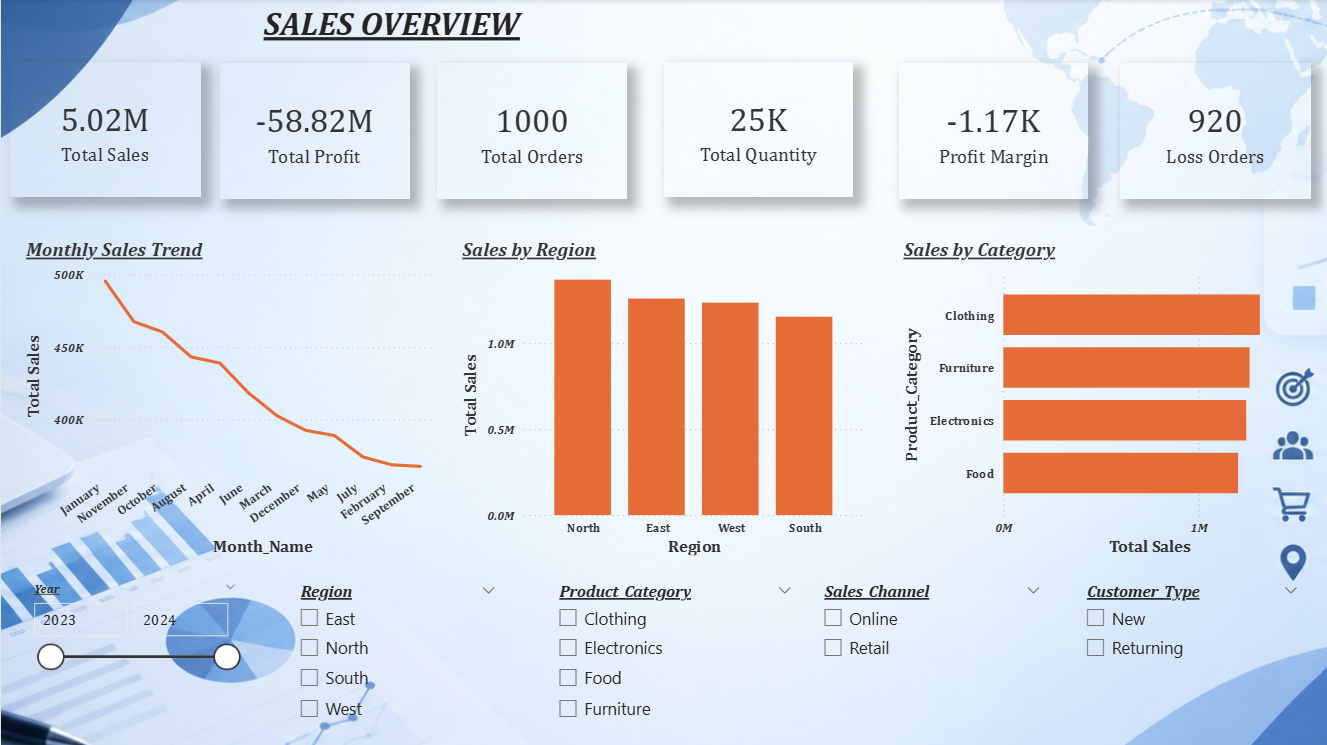

This screenshot's page, from the dashboard's own definition file:
{"tool":"powerbi","page":{"name":"Page 1","canvas":[1280,720],"ordinal":1},"visuals":[{"type":"textbox","box":[248.5,0,270.2,60.3],"z":0},{"type":"card","fields":{"Values":["cleaned_sales_data.Total Sales"]},"box":[8.4,60.3,184.6,131.5],"z":1000},{"type":"card","fields":{"Values":["cleaned_sales_data.Total Profit"]},"box":[211.1,61.5,183.4,131.5],"z":2000},{"type":"card","fields":{"Values":["cleaned_sales_data.Total Quantity"]},"box":[639.4,60.3,183.4,131.5],"z":3000},{"type":"card","fields":{"Values":["cleaned_sales_data.Total Orders"]},"box":[421,61.5,183.4,131.5],"z":4000},{"type":"card","fields":{"Values":["cleaned_sales_data.Profit Margin"]},"box":[866.2,61.5,183.4,131.5],"z":5000},{"type":"lineChart","title":"Monthly Sales Trend","fields":{"Category":["cleaned_sales_data.Month_Name"],"Y":["cleaned_sales_data.Total Sales"]},"box":[19.3,230.4,401.7,311.3],"z":6000},{"type":"clusteredColumnChart","title":"Sales by Region","fields":{"Category":["cleaned_sales_data.Region"],"Y":["cleaned_sales_data.Total Sales"]},"box":[440.4,230.4,398.1,311.3],"z":7000},{"type":"barChart","title":"Sales by Category","fields":{"Y":["cleaned_sales_data.Total Sales"],"Category":["cleaned_sales_data.Product_Category"]},"box":[866.2,230.4,398.1,311.3],"z":8000},{"type":"slicer","fields":{"Values":["cleaned_sales_data.Year"]},"box":[19.3,557.4,219.6,131.5],"z":9000},{"type":"slicer","fields":{"Values":["cleaned_sales_data.Region"]},"box":[276.3,557.4,213.5,153.2],"z":10000},{"type":"slicer","fields":{"Values":["cleaned_sales_data.Product_Category"]},"box":[526,557.4,249.7,162.9],"z":11000},{"type":"slicer","fields":{"Values":["cleaned_sales_data.Sales_Channel"]},"box":[781.8,557.4,234,131.5],"z":12000},{"type":"slicer","fields":{"Values":["cleaned_sales_data.Customer_Type"]},"box":[1035.1,557.4,229.2,131.5],"z":13000},{"type":"card","fields":{"Values":["DateTable.Loss Orders"]},"box":[1079.8,61.5,184.6,131.5],"z":13001}]}

Visuals, with their boxes in screenshot pixels (x1, y1, x2, y2), scaled from the page's 1280x720 canvas onto the 1327x745 screenshot:
textbox: [x1=258, y1=0, x2=538, y2=62]
card - cleaned_sales_data.Total Sales: [x1=9, y1=62, x2=200, y2=198]
card - cleaned_sales_data.Total Profit: [x1=219, y1=64, x2=409, y2=200]
card - cleaned_sales_data.Total Quantity: [x1=663, y1=62, x2=853, y2=198]
card - cleaned_sales_data.Total Orders: [x1=436, y1=64, x2=627, y2=200]
card - cleaned_sales_data.Profit Margin: [x1=898, y1=64, x2=1088, y2=200]
"Monthly Sales Trend" lineChart: [x1=20, y1=238, x2=436, y2=561]
"Sales by Region" clusteredColumnChart: [x1=457, y1=238, x2=869, y2=561]
"Sales by Category" barChart: [x1=898, y1=238, x2=1311, y2=561]
slicer - cleaned_sales_data.Year: [x1=20, y1=577, x2=248, y2=713]
slicer - cleaned_sales_data.Region: [x1=286, y1=577, x2=508, y2=735]
slicer - cleaned_sales_data.Product_Category: [x1=545, y1=577, x2=804, y2=744]
slicer - cleaned_sales_data.Sales_Channel: [x1=811, y1=577, x2=1053, y2=713]
slicer - cleaned_sales_data.Customer_Type: [x1=1073, y1=577, x2=1311, y2=713]
card - DateTable.Loss Orders: [x1=1119, y1=64, x2=1311, y2=200]
